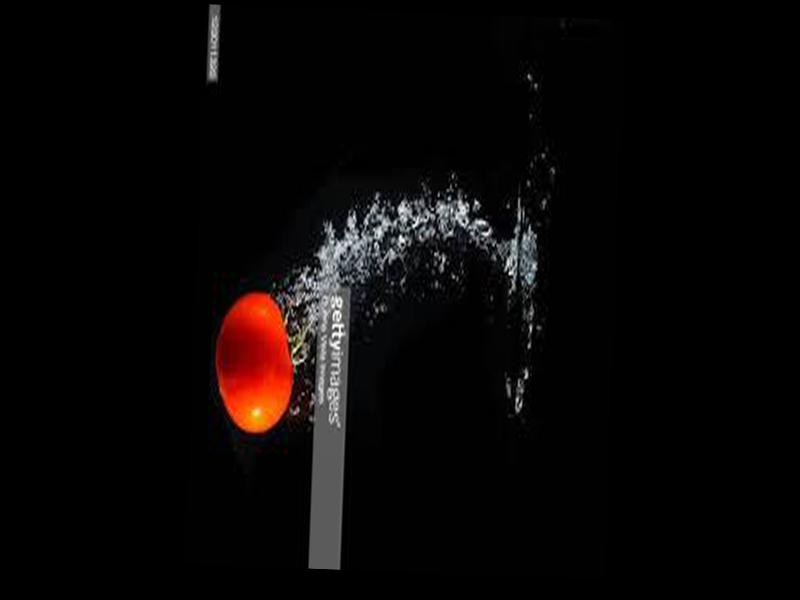Tomato: (215, 289, 296, 434)
